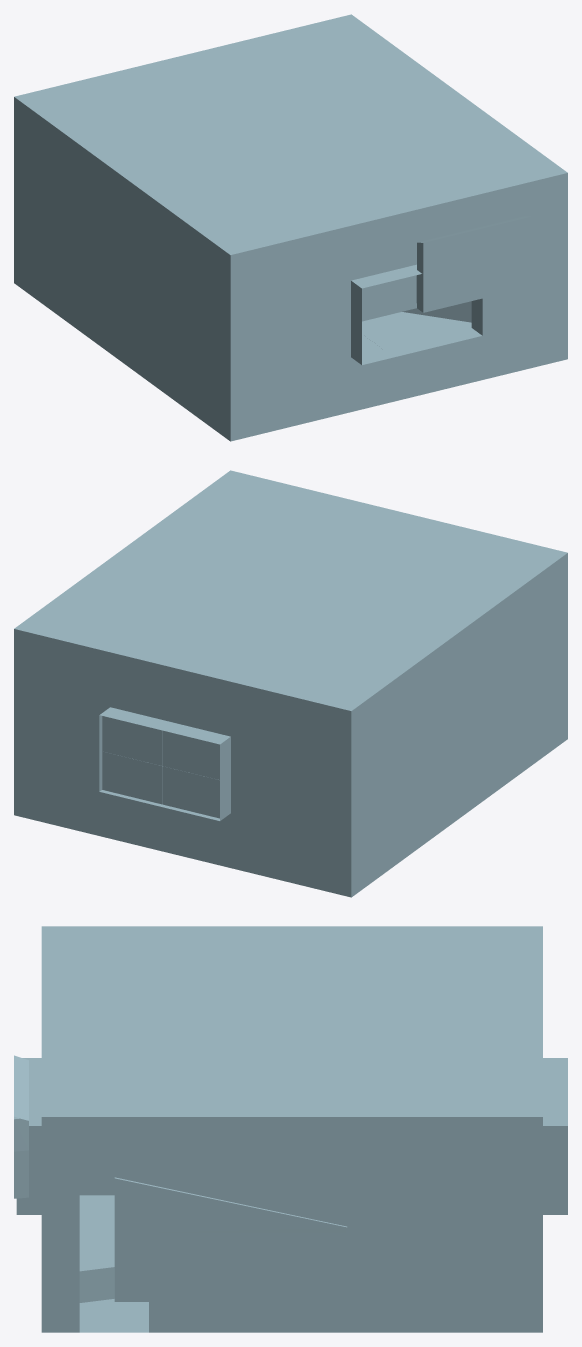
Rendered from brokenRoom.fbx.
The picture shows the model from 3 angles, top to bottom: view 1: azimuth 30°, elevation 25°; view 2: azimuth 150°, elevation 25°; view 3: azimuth 270°, elevation 25°; orthographic projection. The views are drawn at different scales.
Visible parts, largest first — view 1: Room, Room_cell.008, Room_cell.009, Room_cell.032, Room_cell.044, Room_cell.020, Room_cell.021, Room_cell, Room_cell.007, Room_cell.016, Room_cell.002, Room_cell.010 (+11 smaller); view 2: Room, Room_cell.008, Room_cell.009, Room_cell.020, Room_cell, Room_cell.007, Room_cell.044, Room_cell.010, Room_cell.011, Room_cell.002, Room_cell.028, Room_cell.012 (+13 smaller); view 3: Room, Room_cell.046, Room_cell.027, Room_cell.049, Room_cell.008, Room_cell.044, Room_cell.009, Room_cell.047, Room_cell.007, Room_cell.045, Room_cell.004, Room_cell.010 (+15 smaller).
Boxes of the visible parts, x1,y1,x2,y2 form: Room: (14,14,567,441); Room_cell.008: (210,139,411,267); Room_cell.009: (110,78,298,160); Room_cell.032: (417,216,533,312); Room_cell.044: (299,113,542,166); Room_cell.020: (14,191,122,333); Room_cell.021: (123,276,290,413); Room_cell: (14,97,181,197); Room_cell.007: (230,55,386,128); Room_cell.016: (362,312,519,396); Room_cell.002: (122,176,290,281); Room_cell.010: (347,160,519,236); Room: (14,478,567,897); Room_cell.008: (306,508,506,590); Room_cell.009: (194,590,398,672); Room_cell.020: (291,725,459,869); Room_cell: (322,617,459,738); Room_cell.007: (104,579,274,661); Room_cell.044: (152,488,291,590); Room_cell.010: (254,482,386,554); Room_cell.011: (291,802,459,896); Room_cell.002: (459,538,567,650); Room_cell.028: (62,734,170,824); Room_cell.012: (170,826,291,882); Room: (16,926,567,1332); Room_cell.046: (114,1233,345,1301); Room_cell.027: (346,1225,542,1300); Room_cell.049: (114,1145,348,1225); Room_cell.008: (41,960,219,1028); Room_cell.044: (98,1027,348,1148); Room_cell.009: (292,960,456,1028); Room_cell.047: (114,1177,347,1233); Room_cell.007: (301,1028,469,1089); Room_cell.045: (114,1302,345,1332); Room_cell.004: (348,1148,542,1224); Room_cell.010: (41,1028,167,1089).
Size of the model in its own units: 905 by 475 by 1105.
